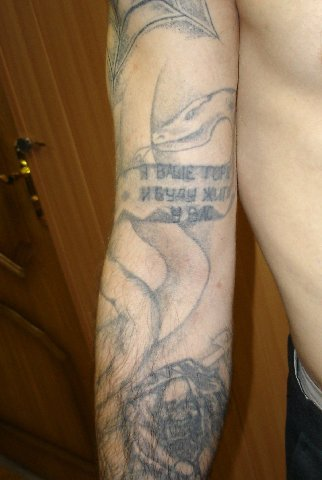tatu3_bukva: (126, 154, 247, 223)
tatu7_zmeya: (115, 26, 244, 390)
